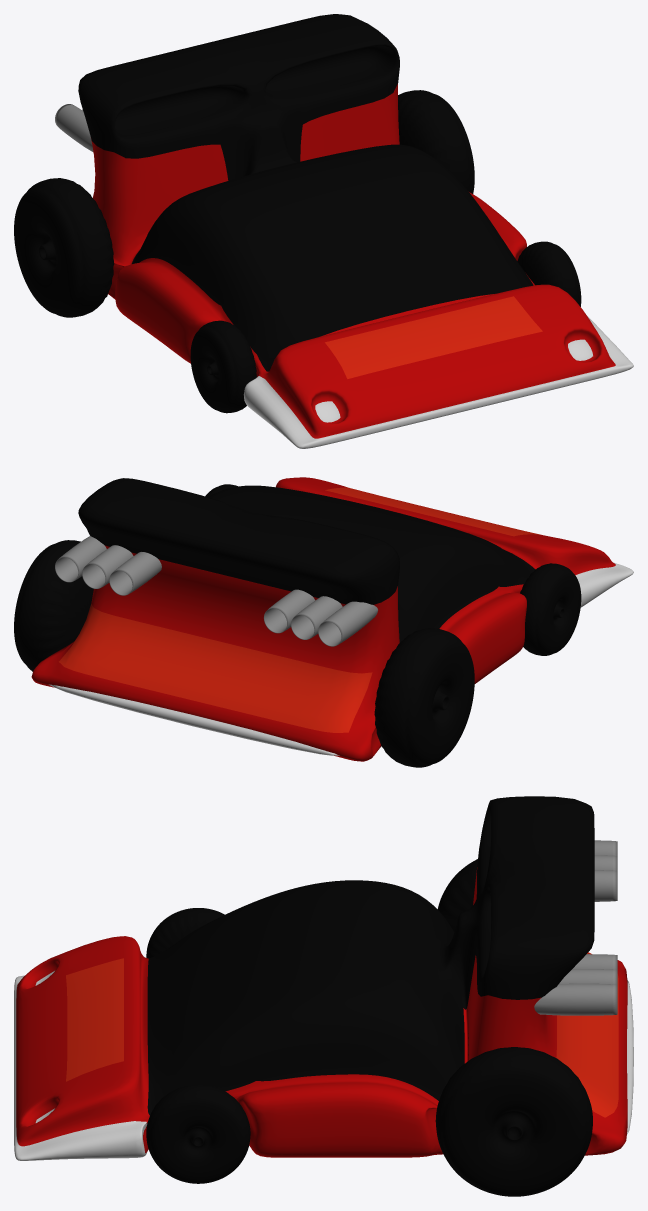
The model's file is kart2-2.obj.
The picture shows the model from 3 angles, top to bottom: view 1: azimuth 30°, elevation 25°; view 2: azimuth 150°, elevation 25°; view 3: azimuth 270°, elevation 25°; orthographic projection. The views are drawn at different scales.
Visible parts, largest first — view 1: Cube; view 2: Cube; view 3: Cube.
Part boxes in pixels (x1,y1,x2,y2): Cube: (14,14,633,448); Cube: (14,477,633,767); Cube: (14,796,633,1196).
Bounding box in the file's own units: 7.16 × 3.47 × 8.5.
